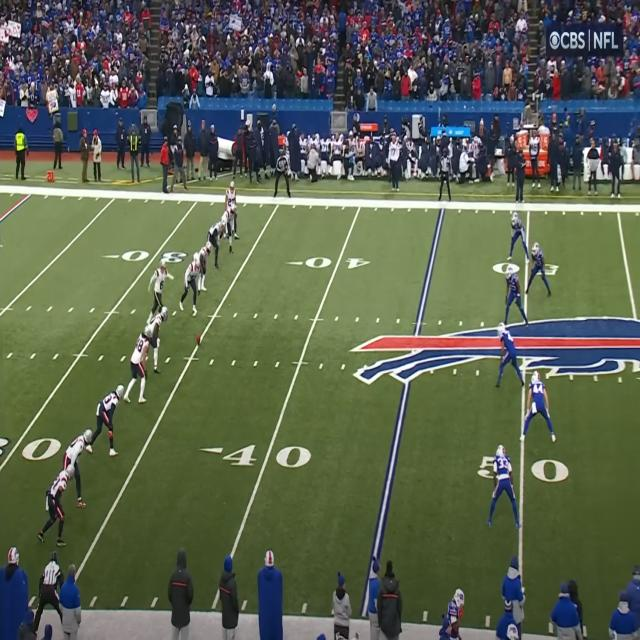football: (194, 330, 203, 348)
players: (484, 439, 526, 537), (32, 457, 76, 539), (521, 364, 558, 446), (494, 318, 529, 389), (96, 380, 125, 463), (66, 424, 93, 507), (496, 264, 530, 328), (130, 325, 156, 404), (142, 296, 168, 373), (526, 234, 552, 298), (145, 254, 167, 328), (505, 207, 528, 264), (182, 255, 203, 317), (224, 178, 242, 237), (208, 216, 224, 273), (219, 199, 236, 244), (200, 243, 213, 290)
